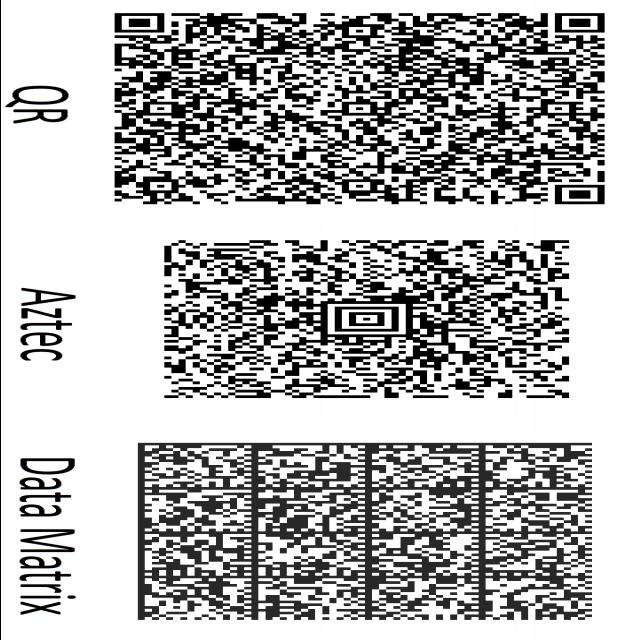DataMatrix: (121, 438, 606, 623)
